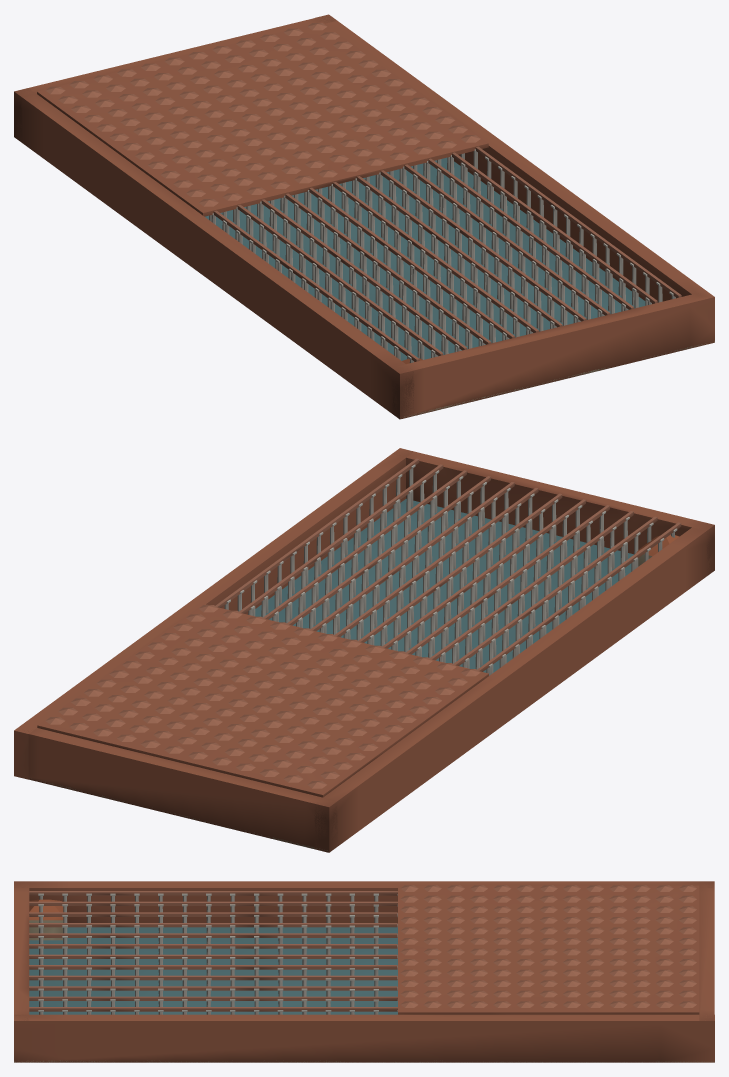
Rendered from basilica-cistern.glb.
The picture shows the model from 3 angles, top to bottom: view 1: azimuth 30°, elevation 25°; view 2: azimuth 150°, elevation 25°; view 3: azimuth 270°, elevation 25°; orthographic projection. The views are drawn at different scales.
Visible parts, largest first — view 1: p0_walls, p2_vaults, p1_columns; view 2: p0_walls, p2_vaults, p1_columns; view 3: p0_walls, p2_vaults, p1_columns.
Boxes of the visible parts, left/top/right/bottom form: p0_walls: left=14, top=14, right=714, bottom=419; p2_vaults: left=37, top=22, right=488, bottom=363; p1_columns: left=209, top=146, right=681, bottom=362; p0_walls: left=14, top=448, right=714, bottom=852; p2_vaults: left=37, top=534, right=679, bottom=797; p1_columns: left=215, top=458, right=681, bottom=675; p0_walls: left=14, top=881, right=714, bottom=1062; p2_vaults: left=29, top=885, right=699, bottom=1014; p1_columns: left=29, top=891, right=397, bottom=1014.
Bounding box in the file's own units: 65.05 × 10.55 × 138.
